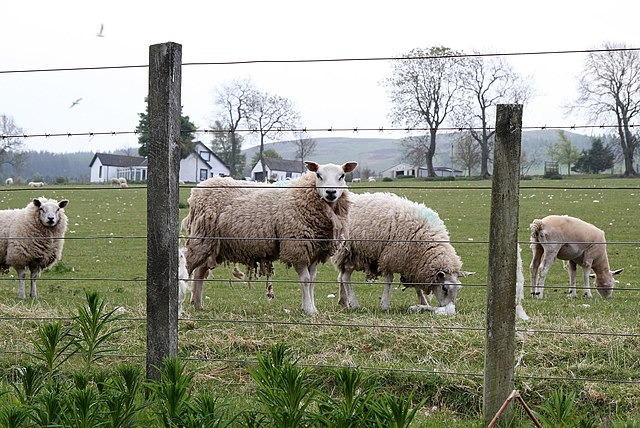grazing: (330, 188, 464, 317), (529, 213, 623, 301)
standing: (187, 160, 341, 319), (1, 194, 72, 301)
